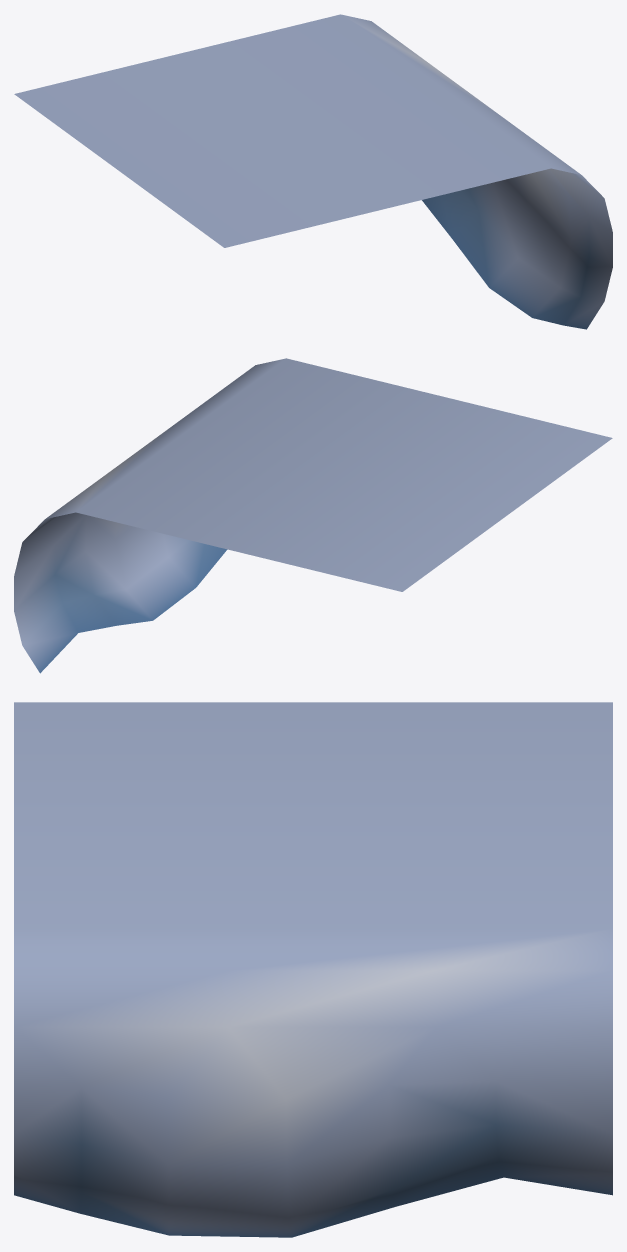
Rendered from Surface_SideUp01.fbx.
3 renders of one model, top to bottom at view 1: azimuth 30°, elevation 25°; view 2: azimuth 150°, elevation 25°; view 3: azimuth 270°, elevation 25°, orthographic. The views are drawn at different scales.
Parts seen in each view (by area): view 1: Surface_SideUp01; view 2: Surface_SideUp01; view 3: Surface_SideUp01.
Part boxes in pixels (x1,y1,x2,y2): Surface_SideUp01: (14,14,612,329); Surface_SideUp01: (14,358,612,673); Surface_SideUp01: (14,702,612,1237).
Bounding box in the file's own units: 2203 × 1046 × 2000.
